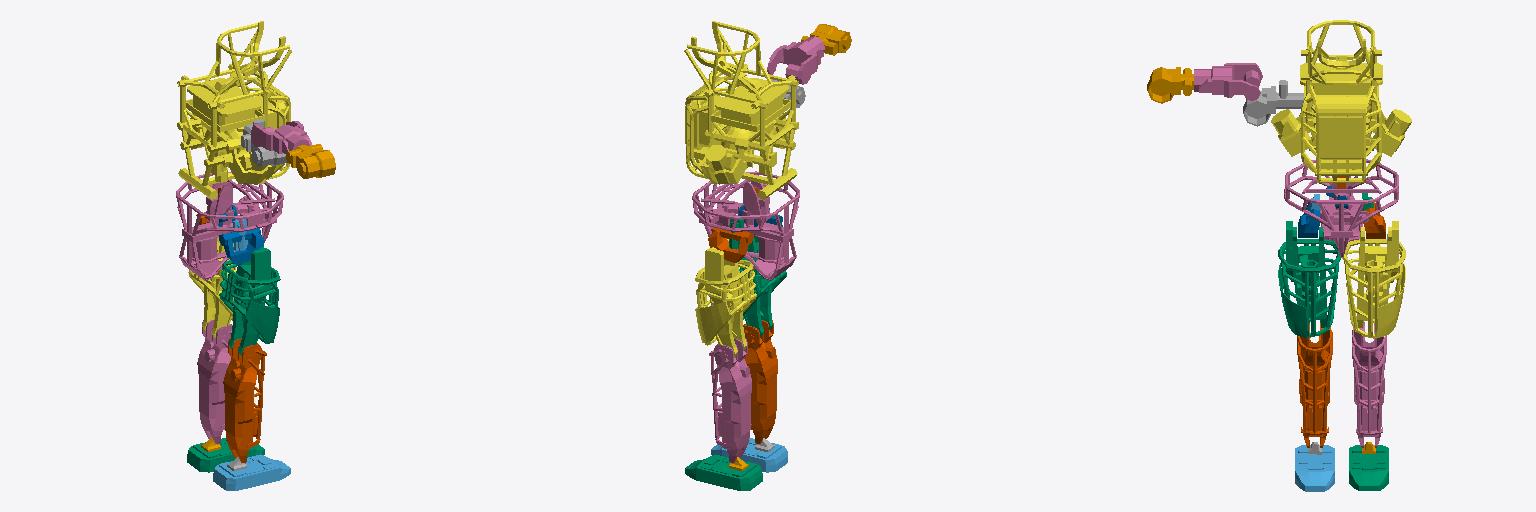
--- Facts derived from the render (not from the file) ---
The picture shows the robot from 3 angles, left to right: view 1: azimuth 30°, elevation 25°; view 2: azimuth 150°, elevation 25°; view 3: azimuth 270°, elevation 25°; orthographic projection.
Model drc_skeleton with 29 links and 28 joints (9 revolute, 19 fixed), rooted at pelvis, posed every joint at zero.
Links seen in each view (by area): view 1: utorso, pelvis, r_uleg, r_lleg, l_lleg, r_foot, l_uleg, r_scap, r_uarm, l_foot, r_lglut, r_clav; view 2: utorso, pelvis, l_uleg, l_lleg, r_lleg, l_foot, r_scap, r_uleg, r_foot, l_lglut, r_uarm; view 3: utorso, l_uleg, r_uleg, pelvis, r_lleg, l_lleg, r_scap, r_foot, l_foot, r_clav, r_uarm.
Link boxes in pixels (left/top/right/bottom): utorso: left=177, top=21, right=291, bottom=199; pelvis: left=176, top=172, right=283, bottom=280; r_uleg: left=219, top=247, right=280, bottom=355; r_lleg: left=223, top=338, right=266, bottom=462; l_lleg: left=197, top=319, right=232, bottom=443; r_foot: left=213, top=454, right=290, bottom=490; l_uleg: left=188, top=237, right=236, bottom=337; r_scap: left=250, top=121, right=311, bottom=153; r_uarm: left=286, top=144, right=335, bottom=178; l_foot: left=187, top=438, right=264, bottom=472; r_lglut: left=219, top=228, right=264, bottom=264; r_clav: left=241, top=119, right=286, bottom=166; utorso: left=684, top=21, right=798, bottom=199; pelvis: left=692, top=171, right=799, bottom=280; l_uleg: left=695, top=239, right=756, bottom=356; l_lleg: left=709, top=338, right=751, bottom=462; r_lleg: left=743, top=320, right=777, bottom=443; l_foot: left=685, top=454, right=762, bottom=490; r_scap: left=767, top=36, right=824, bottom=84; r_uleg: left=739, top=236, right=786, bottom=336; r_foot: left=711, top=438, right=787, bottom=472; l_lglut: left=708, top=225, right=753, bottom=262; r_uarm: left=801, top=24, right=851, bottom=55; utorso: left=1271, top=20, right=1411, bottom=182; l_uleg: left=1342, top=221, right=1405, bottom=338; r_uleg: left=1278, top=221, right=1341, bottom=337; pelvis: left=1284, top=159, right=1398, bottom=256; r_lleg: left=1297, top=323, right=1332, bottom=447; l_lleg: left=1352, top=322, right=1386, bottom=447; r_scap: left=1194, top=63, right=1262, bottom=100; r_foot: left=1295, top=445, right=1334, bottom=491; l_foot: left=1349, top=445, right=1388, bottom=490; r_clav: left=1243, top=80, right=1303, bottom=126; r_uarm: left=1147, top=67, right=1193, bottom=103.
Bounding box of the posed robot: 0.3659 × 0.8689 × 1.63 m (x, y, z).
20 mesh visuals loaded from 29 distinct referenced files (20 OBJ); not drawn: 9 (reference not matched to a file when rendering).

The robot description file, URDF, robot "drc_skeleton":
<!-- These are Atlas torso and limb models, for full Atlas robot nn_model, please see
     xacro files containing fully assembed robots in atlas_description/robots/ -->
<robot name="drc_skeleton">
    <link name="l_clav">
        <inertial>
            <mass value="2.369" />
            <origin xyz="0.014 0.058 0.029" rpy="1.04719755 0 0" />
            <inertia ixx="0.004" ixy="0.001" ixz="0" iyy="0.006" iyz="0" izz="0.007" />
        </inertial>
        <visual>
            <origin xyz="0 0 0" rpy="0 -0 0" />
            <geometry>
                <mesh filename="meshes/l_clav.obj" scale="1 1 1" />
            </geometry>
        </visual>
        <collision>
            <origin xyz="0 0 0" rpy="0 -0 0" />
            <geometry>
                <mesh filename="meshes/l_clav.obj" scale="1 1 1" />
            </geometry>
        </collision>
    </link>
    <link name="l_farm">
        <inertial>
            <mass value="0.981" />
            <origin xyz="0 0.041 0" rpy="0 -0 0" />
            <inertia ixx="0.003" ixy="0" ixz="0" iyy="0.001" iyz="0" izz="0.003" />
        </inertial>
        <visual>
            <origin xyz="0 0 0" rpy="0 -0 0" />
            <geometry>
                <mesh filename="meshes/l_farm.obj" scale="1 1 1" />
            </geometry>
        </visual>
        <collision>
            <origin xyz="0 0 0" rpy="0 -0 0" />
            <geometry>
                <mesh filename="meshes/l_farm.obj" scale="1 1 1" />
            </geometry>
        </collision>
    </link>
    <link name="l_foot">
        <inertial>
            <mass value="1.634" />
            <origin xyz="0.027 0 -0.067" rpy="0 -0 0" />
            <inertia ixx="0.002" ixy="0" ixz="0" iyy="0.007" iyz="0" izz="0.008" />
        </inertial>
        <visual>
            <origin xyz="0 0 0" rpy="0 -0 0" />
            <geometry>
                <mesh filename="meshes/l_foot.obj" scale="1 1 1" />
            </geometry>
        </visual>
        <collision>
            <origin xyz="0 0 0" rpy="0 -0 0" />
            <geometry>
                <mesh filename="meshes/l_foot.obj" scale="1 1 1" />
            </geometry>
        </collision>
    </link>
    <link name="l_hand">
        <inertial>
            <mass value="2.263" />
            <origin xyz="0 0.093 0" rpy="0 -0 0" />
            <inertia ixx="0.01" ixy="0" ixz="0" iyy="0.002" iyz="0" izz="0.01" />
        </inertial>
        <visual>
            <origin xyz="0 0 0" rpy="0 -0 0" />
            <geometry>
                <mesh filename="meshes/l_hand.obj" scale="1 1 1" />
            </geometry>
        </visual>
        <collision>
            <origin xyz="0 0 0" rpy="0 -0 0" />
            <geometry>
                <mesh filename="meshes/l_hand.obj" scale="1 1 1" />
            </geometry>
        </collision>
    </link>
    <link name="l_larm">
        <inertial>
            <mass value="2.148" />
            <origin xyz="-0.003 0.099 -0.014" rpy="0 -0 0" />
            <inertia ixx="0.005" ixy="0" ixz="0" iyy="0.003" iyz="0" izz="0.006" />
        </inertial>
        <visual>
            <origin xyz="0 0 0" rpy="0 -0 0" />
            <geometry>
                <mesh filename="meshes/l_larm.obj" scale="1 1 1" />
            </geometry>
        </visual>
        <collision>
            <origin xyz="0 0 0" rpy="0 -0 0" />
            <geometry>
                <mesh filename="meshes/l_larm.obj" scale="1 1 1" />
            </geometry>
        </collision>
    </link>
    <link name="l_lglut">
        <inertial>
            <mass value="0.69" />
            <origin xyz="0.0133341 0.0170484 -0.0312052" rpy="0 -0 0" />
            <inertia ixx="0.000691326" ixy="-2.24344e-05" ixz="2.50508e-06" iyy="0.00126856" iyz="0.000137862" izz="0.00106487" />
        </inertial>
        <visual>
            <origin xyz="0 0 0" rpy="0 -0 0" />
            <geometry>
                <mesh filename="meshes/l_lglut.obj" scale="1 1 1" />
            </geometry>
        </visual>
        <collision>
            <origin xyz="0 0 0" rpy="0 -0 0" />
            <geometry>
                <mesh filename="meshes/l_lglut.obj" scale="1 1 1" />
            </geometry>
        </collision>
    </link>
    <link name="l_lleg">
        <inertial>
            <mass value="4.367" />
            <origin xyz="0.001 0 -0.187" rpy="0 -0 0" />
            <inertia ixx="0.077" ixy="0" ixz="-0.003" iyy="0.076" iyz="0" izz="0.01" />
        </inertial>
        <visual>
            <origin xyz="0 0 0" rpy="0 -0 0" />
            <geometry>
                <mesh filename="meshes/l_lleg.obj" scale="1 1 1" />
            </geometry>
        </visual>
        <collision>
            <origin xyz="0 0 0" rpy="0 -0 0" />
            <geometry>
                <mesh filename="meshes/l_lleg.obj" scale="1 1 1" />
            </geometry>
        </collision>
    </link>
    <link name="l_scap">
        <inertial>
            <mass value="2.707" />
            <origin xyz="-0.002 0.108 0" rpy="0 -0 0" />
            <inertia ixx="0.01" ixy="0" ixz="0" iyy="0.005" iyz="0" izz="0.013" />
        </inertial>
        <visual>
            <origin xyz="0 0 0" rpy="0 -0 0" />
            <geometry>
                <mesh filename="meshes/l_scap.obj" scale="1 1 1" />
            </geometry>
        </visual>
        <collision>
            <origin xyz="0 0 0" rpy="0 -0 0" />
            <geometry>
                <mesh filename="meshes/l_scap.obj" scale="1 1 1" />
            </geometry>
        </collision>
    </link>
    <link name="l_talus">
        <inertial>
            <mass value="0.1" />
            <origin xyz="0 0 0" rpy="0 -0 0" />
            <inertia ixx="1.01674e-05" ixy="0" ixz="0" iyy="8.42775e-06" iyz="0" izz="1.30101e-05" />
        </inertial>
        <visual>
            <origin xyz="0 0 0" rpy="0 -0 0" />
            <geometry>
                <mesh filename="meshes/l_talus.obj" scale="1 1 1" />
            </geometry>
        </visual>
        <collision>
            <origin xyz="0 0 0" rpy="0 -0 0" />
            <geometry>
                <mesh filename="meshes/l_talus.obj" scale="1 1 1" />
            </geometry>
        </collision>
    </link>
    <link name="l_uarm">
        <inertial>
            <mass value="1.881" />
            <origin xyz="0.007 0.114 0.008" rpy="0 -0 0" />
            <inertia ixx="0.002" ixy="0" ixz="0" iyy="0.003" iyz="0" izz="0.003" />
        </inertial>
        <visual>
            <origin xyz="0 0 0" rpy="0 -0 0" />
            <geometry>
                <mesh filename="meshes/l_uarm.obj" scale="1 1 1" />
            </geometry>
        </visual>
        <collision>
            <origin xyz="0 0 0" rpy="0 -0 0" />
            <geometry>
                <mesh filename="meshes/l_uarm.obj" scale="1 1 1" />
            </geometry>
        </collision>
    </link>
    <link name="l_uglut">
        <inertial>
            <mass value="0.5166" />
            <origin xyz="0.00529262 -0.00344732 0.00313046" rpy="0 -0 0" />
            <inertia ixx="0.00074276" ixy="-3.79607e-08" ixz="-2.79549e-05" iyy="0.000688179" iyz="-3.2735e-08" izz="0.00041242" />
        </inertial>
        <visual>
            <origin xyz="0 0 0" rpy="0 -0 0" />
            <geometry>
                <mesh filename="meshes/l_uglut.obj" scale="1 1 1" />
            </geometry>
        </visual>
        <collision>
            <origin xyz="0 0 0" rpy="0 -0 0" />
            <geometry>
                <mesh filename="meshes/l_uglut.obj" scale="1 1 1" />
            </geometry>
        </collision>
    </link>
    <link name="l_uleg">
        <inertial>
            <mass value="7.34" />
            <origin xyz="0 0 -0.21" rpy="0 -0 0" />
            <inertia ixx="0.09" ixy="0" ixz="0" iyy="0.09" iyz="0" izz="0.02" />
        </inertial>
        <visual>
            <origin xyz="0 0 0" rpy="0 -0 0" />
            <geometry>
                <mesh filename="meshes/l_uleg.obj" scale="1 1 1" />
            </geometry>
        </visual>
        <collision>
            <origin xyz="0 0 0" rpy="0 -0 0" />
            <geometry>
                <mesh filename="meshes/l_uleg.obj" scale="1 1 1" />
            </geometry>
        </collision>
    </link>
    <link name="ltorso">
        <inertial>
            <mass value="1.92" />
            <origin xyz="-0.0112984 -3.15366e-06 0.0746835" rpy="0 -0 0" />
            <inertia ixx="0.0039092" ixy="-5.04491e-08" ixz="-0.000342157" iyy="0.00341694" iyz="4.87119e-07" izz="0.00174492" />
        </inertial>
        <visual>
            <origin xyz="0 0 0" rpy="0 -0 0" />
            <geometry>
                <mesh filename="meshes/ltorso.obj" scale="1 1 1" />
            </geometry>
        </visual>
        <collision>
            <origin xyz="0 0 0" rpy="0 -0 0" />
            <geometry>
                <mesh filename="meshes/ltorso.obj" scale="1 1 1" />
            </geometry>
        </collision>
    </link>
    <link name="mtorso">
        <inertial>
            <mass value="0.55" />
            <origin xyz="-0.00816266 -0.0131245 0.0305974" rpy="0 -0 0" />
            <inertia ixx="0.000454181" ixy="-6.10764e-05" ixz="3.94009e-05" iyy="0.000483282" iyz="5.27463e-05" izz="0.000444215" />
        </inertial>
        <visual>
            <origin xyz="0 0 0" rpy="0 -0 0" />
            <geometry>
                <mesh filename="meshes/mtorso.obj" scale="1 1 1" />
            </geometry>
        </visual>
        <collision>
            <origin xyz="0 0 0" rpy="0 -0 0" />
            <geometry>
                <mesh filename="meshes/mtorso.obj" scale="1 1 1" />
            </geometry>
        </collision>
    </link>
    <link name="pelvis">
        <inertial>
            <mass value="14.2529" />
            <origin xyz="0.0111 0 0.0271" rpy="0 -0 0" />
            <inertia ixx="0.1244" ixy="0.0008" ixz="-0.0007" iyy="0.0958" iyz="-0.0005" izz="0.1167" />
        </inertial>
        <visual>
            <origin xyz="0 0 0" rpy="0 -0 0" />
            <geometry>
                <mesh filename="meshes/pelvis.obj" scale="1 1 1" />
            </geometry>
        </visual>
        <collision>
            <origin xyz="0 0 0" rpy="0 -0 0" />
            <geometry>
                <mesh filename="meshes/pelvis.obj" scale="1 1 1" />
            </geometry>
        </collision>
    </link>
	<link name="r_clav">
        <inertial>
            <mass value="2.369" />
            <origin xyz="0.014 -0.058 0.029" rpy="-1.04719755 0 0" />
            <inertia ixx="0.004" ixy="-0.001" ixz="0" iyy="0.006" iyz="0" izz="0.007" />
        </inertial>
        <visual>
            <origin xyz="0 0 0" rpy="0 -0 0" />
            <geometry>
                <mesh filename="meshes/r_clav.obj" scale="1 1 1" />
            </geometry>
        </visual>
        <collision>
            <origin xyz="0 0 0" rpy="0 -0 0" />
            <geometry>
                <mesh filename="meshes/r_clav.obj" scale="1 1 1" />
            </geometry>
        </collision>
    </link>
    <link name="r_farm">
        <inertial>
            <mass value="0.981" />
            <origin xyz="0 -0.041 0" rpy="0 -0 0" />
            <inertia ixx="0.003" ixy="0" ixz="0" iyy="0.001" iyz="0" izz="0.003" />
        </inertial>
        <visual>
            <origin xyz="0 0 0" rpy="0 -0 0" />
            <geometry>
                <mesh filename="meshes/r_farm.obj" scale="1 1 1" />
            </geometry>
        </visual>
        <collision>
            <origin xyz="0 0 0" rpy="0 -0 0" />
            <geometry>
                <mesh filename="meshes/r_farm.obj" scale="1 1 1" />
            </geometry>
        </collision>
    </link>
    <link name="r_foot">
        <inertial>
            <mass value="1.634" />
            <origin xyz="0.027 0 -0.067" rpy="0 -0 0" />
            <inertia ixx="0.002" ixy="0" ixz="0" iyy="0.007" iyz="0" izz="0.008" />
        </inertial>
        <visual>
            <origin xyz="0 0 0" rpy="0 -0 0" />
            <geometry>
                <mesh filename="meshes/r_foot.obj" scale="1 1 1" />
            </geometry>
        </visual>
        <collision>
            <origin xyz="0 0 0" rpy="0 -0 0" />
            <geometry>
                <mesh filename="meshes/r_foot.obj" scale="1 1 1" />
            </geometry>
        </collision>
    </link>
    <link name="r_hand">
        <inertial>
            <mass value="2.263" />
            <origin xyz="0 -0.093 0" rpy="0 -0 0" />
            <inertia ixx="0.01" ixy="0" ixz="-0" iyy="0.002" iyz="0" izz="0.01" />
        </inertial>
        <visual>
            <origin xyz="0 0 0" rpy="0 -0 0" />
            <geometry>
                <mesh filename="meshes/r_hand.obj" scale="1 1 1" />
            </geometry>
        </visual>
        <collision>
            <origin xyz="0 0 0" rpy="0 -0 0" />
            <geometry>
                <mesh filename="meshes/r_hand.obj" scale="1 1 1" />
            </geometry>
        </collision>
    </link>
    <link name="r_larm">
        <inertial>
            <mass value="2.148" />
            <origin xyz="-0.003 -0.099 -0.014" rpy="0 -0 0" />
            <inertia ixx="0.005" ixy="0" ixz="0" iyy="0.003" iyz="0" izz="0.006" />
        </inertial>
        <visual>
            <origin xyz="0 0 0" rpy="0 -0 0" />
            <geometry>
                <mesh filename="meshes/r_larm.obj" scale="1 1 1" />
            </geometry>
        </visual>
        <collision>
            <origin xyz="0 0 0" rpy="0 -0 0" />
            <geometry>
                <mesh filename="meshes/r_larm.obj" scale="1 1 1" />
            </geometry>
        </collision>
    </link>
    <link name="r_lglut">
        <inertial>
            <mass value="0.69" />
            <origin xyz="0.0133341 -0.0170484 -0.0312052" rpy="0 -0 0" />
            <inertia ixx="0.000691326" ixy="2.24344e-05" ixz="2.50508e-06" iyy="0.00126856" iyz="-0.000137862" izz="0.00106487" />
        </inertial>
        <visual>
            <origin xyz="0 0 0" rpy="0 -0 0" />
            <geometry>
                <mesh filename="meshes/r_lglut.obj" scale="1 1 1" />
            </geometry>
        </visual>
        <collision>
            <origin xyz="0 0 0" rpy="0 -0 0" />
            <geometry>
                <mesh filename="meshes/r_lglut.obj" scale="1 1 1" />
            </geometry>
        </collision>
    </link>
    <link name="r_lleg">
        <inertial>
            <mass value="4.367" />
            <origin xyz="0.001 0 -0.187" rpy="0 -0 0" />
            <inertia ixx="0.077" ixy="-0" ixz="-0.003" iyy="0.076" iyz="-0" izz="0.01" />
        </inertial>
        <visual>
            <origin xyz="0 0 0" rpy="0 -0 0" />
            <geometry>
                <mesh filename="meshes/r_lleg.obj" scale="1 1 1" />
            </geometry>
        </visual>
        <collision>
            <origin xyz="0 0 0" rpy="0 -0 0" />
            <geometry>
                <mesh filename="meshes/r_lleg.obj" scale="1 1 1" />
            </geometry>
        </collision>
    </link>
    <link name="r_scap">
        <inertial>
            <mass value="2.707" />
            <origin xyz="-0.002 -0.108 0" rpy="0 -0 0" />
            <inertia ixx="0.01" ixy="0" ixz="0" iyy="0.005" iyz="0" izz="0.013" />
        </inertial>
        <visual>
            <origin xyz="0 0 0" rpy="0 -0 0" />
            <geometry>
                <mesh filename="meshes/r_scap.obj" scale="1 1 1" />
            </geometry>
        </visual>
        <collision>
            <origin xyz="0 0 0" rpy="0 -0 0" />
            <geometry>
                <mesh filename="meshes/r_scap.obj" scale="1 1 1" />
            </geometry>
        </collision>
    </link>
    <link name="r_talus">
        <inertial>
            <mass value="0.1" />
            <origin xyz="0 0 0" rpy="0 -0 0" />
            <inertia ixx="1.01674e-05" ixy="0" ixz="0" iyy="8.42775e-06" iyz="0" izz="1.30101e-05" />
        </inertial>
        <visual>
            <origin xyz="0 0 0" rpy="0 -0 0" />
            <geometry>
                <mesh filename="meshes/r_talus.obj" scale="1 1 1" />
            </geometry>
        </visual>
        <collision>
            <origin xyz="0 0 0" rpy="0 -0 0" />
            <geometry>
                <mesh filename="meshes/r_talus.obj" scale="1 1 1" />
            </geometry>
        </collision>
    </link>
    <link name="r_uarm">
        <inertial>
            <mass value="1.881" />
            <origin xyz="0.007 -0.114 0.008" rpy="0 -0 0" />
            <inertia ixx="0.002" ixy="0" ixz="0" iyy="0.003" iyz="0" izz="0.003" />
        </inertial>
        <visual>
            <origin xyz="0 0 0" rpy="0 -0 0" />
            <geometry>
                <mesh filename="meshes/r_uarm.obj" scale="1 1 1" />
            </geometry>
        </visual>
        <collision>
            <origin xyz="0 0 0" rpy="0 -0 0" />
            <geometry>
                <mesh filename="meshes/r_uarm.obj" scale="1 1 1" />
            </geometry>
        </collision>
    </link>
    <link name="r_uglut">
        <inertial>
            <mass value="0.5166" />
            <origin xyz="0.00529262 0.00344732 0.00313046" rpy="0 -0 0" />
            <inertia ixx="0.00074276" ixy="3.79607e-08" ixz="-2.79549e-05" iyy="0.000688179" iyz="3.2735e-08" izz="0.00041242" />
        </inertial>
        <visual>
            <origin xyz="0 0 0" rpy="0 -0 0" />
            <geometry>
                <mesh filename="meshes/r_uglut.obj" scale="1 1 1" />
            </geometry>
        </visual>
        <collision>
            <origin xyz="0 0 0" rpy="0 -0 0" />
            <geometry>
                <mesh filename="meshes/r_uglut.obj" scale="1 1 1" />
            </geometry>
        </collision>
    </link>
    <link name="r_uleg">
        <inertial>
            <mass value="7.34" />
            <origin xyz="0 0 -0.21" rpy="0 -0 0" />
            <inertia ixx="0.09" ixy="0" ixz="0" iyy="0.09" iyz="0" izz="0.02" />
        </inertial>
        <visual>
            <origin xyz="0 0 0" rpy="0 -0 0" />
            <geometry>
                <mesh filename="meshes/r_uleg.obj" scale="1 1 1" />
            </geometry>
        </visual>
        <collision>
            <origin xyz="0 0 0" rpy="0 -0 0" />
            <geometry>
                <mesh filename="meshes/r_uleg.obj" scale="1 1 1" />
            </geometry>
        </collision>
    </link>
    <link name="utorso">
        <inertial>
            <mass value="18.484" />
            <origin xyz="0.02 -0.001 0.211" rpy="0 -0 0" />
            <!-- original inertia violates triangle rule
            <inertia ixx="0.395" ixy="0" ixz="0.083" iyy="1.089" iyz="-0.003" izz="0.327" />
            -->
            <inertia ixx="0.395" ixy="0" ixz="0.083" iyy="1.089" iyz="-0.003" izz="0.827" />
        </inertial>
        <visual>
            <origin xyz="0 0 0" rpy="0 -0 0" />
            <geometry>
                <mesh filename="meshes/utorso.obj" scale="1 1 1" />
            </geometry>
        </visual>
        <collision>
            <origin xyz="0 0 0" rpy="0 -0 0" />
            <geometry>
                <mesh filename="meshes/utorso.obj" scale="1 1 1" />
            </geometry>
        </collision>
    </link>


	<!--	Active Joints -->
    <joint name="back_lbz" type="revolute">
        <origin xyz="-0.0125 0 0" rpy="0 -0 0" />
        <axis xyz="0 0 1" />
        <parent link="pelvis" />
        <child link="ltorso" />
        <dynamics damping="0.1" friction="0" />
        <limit effort="124.016" velocity="12" lower="-0.610865" upper="0.610865" />
        <safety_controller k_position="100" k_velocity="100" soft_lower_limit="-10.6109" soft_upper_limit="10.6109" />
    </joint>
	<joint name="back_mby" type="revolute">
        <origin xyz="0 0 0.09" rpy="0 -0 0" />
        <axis xyz="0 1 0" />
        <parent link="ltorso" />
        <child link="mtorso" />
        <dynamics damping="0.1" friction="0" />
        <limit effort="206.843" velocity="12" lower="-1.2" upper="1.28" />
        <safety_controller k_position="100" k_velocity="100" soft_lower_limit="-11.2" soft_upper_limit="11.28" />
    </joint>
    <joint name="back_ubx" type="revolute">
        <origin xyz="0 0 0.05" rpy="0 -0 0" />
        <axis xyz="1 0 0" />
        <parent link="mtorso" />
        <child link="utorso" />
        <dynamics damping="0.1" friction="0" />
        <limit effort="94.91" velocity="12" lower="-0.790809" upper="0.790809" />
        <safety_controller k_position="100" k_velocity="100" soft_lower_limit="-10.7908" soft_upper_limit="10.7908" />
    </joint>
    <joint name="l_arm_usy" type="revolute">
        <origin xyz="0.024 0.221 0.289" rpy="0 -0 0" />
        <axis xyz="0 0.5 0.866025" />
        <parent link="utorso" />
        <child link="l_clav" />
        <dynamics damping="0.1" friction="0" />
        <limit effort="212" velocity="12" lower="-1.9635" upper="1.9635" />
        <safety_controller k_position="100" k_velocity="100" soft_lower_limit="-11.9635" soft_upper_limit="11.9635" />
    </joint>
    <joint name="l_arm_shx" type="revolute">
        <origin xyz="0 0.075 0.036" rpy="0 -0 0" />
        <axis xyz="1 0 0" />
        <parent link="l_clav" />
        <child link="l_scap" />
        <dynamics damping="0.1" friction="0" />
        <limit effort="170" velocity="12" lower="-1.39626" upper="1.74533" />
        <safety_controller k_position="100" k_velocity="100" soft_lower_limit="-11.3963" soft_upper_limit="11.7453" />
    </joint>
    <joint name="l_arm_ely" type="revolute">
        <origin xyz="0 0.185 0" rpy="0 -0 0" />
        <axis xyz="0 1 0" />
        <parent link="l_scap" />
        <child link="l_uarm" />
        <dynamics damping="0.1" friction="0" />
        <limit effort="114" velocity="12" lower="0" upper="3.14159" />
        <safety_controller k_position="100" k_velocity="100" soft_lower_limit="-10" soft_upper_limit="13.1416" />
    </joint>
    <joint name="l_arm_elx" type="revolute">
        <origin xyz="0 0.121 0.013" rpy="0 -0 0" />
        <axis xyz="1 0 0" />
        <parent link="l_uarm" />
        <child link="l_larm" />
        <dynamics damping="0.1" friction="0" />
        <limit effort="114" velocity="12" lower="0" upper="2.35619" />
        <safety_controller k_position="100" k_velocity="100" soft_lower_limit="-10" soft_upper_limit="12.3562" />
    </joint>
    <joint name="l_arm_uwy" type="revolute">
        <origin xyz="0 0.188 -0.013" rpy="0 -0 0" />
        <axis xyz="0 1 0" />
        <parent link="l_larm" />
        <child link="l_farm" />
        <dynamics damping="0.1" friction="0" />
        <limit effort="114" velocity="12" lower="-1.571" upper="1.571" />
        <safety_controller k_position="100" k_velocity="100" soft_lower_limit="-11.571" soft_upper_limit="11.571" />
    </joint>
	<joint name="l_arm_mwx" type="revolute">
        <origin xyz="0 0.058 0" rpy="0 -0 0" />
        <axis xyz="1 0 0" />
        <parent link="l_farm" />
        <child link="l_hand" />
        <dynamics damping="0.1" friction="0" />
        <limit effort="60" velocity="12" lower="-0.436" upper="1.571" />
        <safety_controller k_position="100" k_velocity="100" soft_lower_limit="-10.436" soft_upper_limit="11.571" />
    </joint>














    <joint name="l_leg_lax" type="fixed">
        <origin xyz="0 0 0" rpy="0 -0 0" />
        <axis xyz="1 0 0" />
        <parent link="l_talus" />
        <child link="l_foot" />
        <dynamics damping="0.1" friction="0" />
        <limit effort="90" velocity="12" lower="-0.436" upper="0.436" />
        <safety_controller k_position="100" k_velocity="100" soft_lower_limit="-10.436" soft_upper_limit="10.436" />
    </joint>
    <joint name="l_leg_lhy" type="fixed">
        <origin xyz="0.05 0 -0.05" rpy="0 -0 0" />
        <axis xyz="0 1 0" />
        <parent link="l_lglut" />
        <child link="l_uleg" />
        <dynamics damping="0.1" friction="0" />
        <limit effort="260" velocity="12" lower="-1.75" upper="0.524" />
        <safety_controller k_position="100" k_velocity="100" soft_lower_limit="-11.75" soft_upper_limit="10.524" />
    </joint>
    <joint name="l_leg_mhx" type="fixed">
        <origin xyz="0 0 0" rpy="0 -0 0" />
        <axis xyz="1 0 0" />
        <parent link="l_uglut" />
        <child link="l_lglut" />
        <dynamics damping="0.1" friction="0" />
        <limit effort="180" velocity="12" lower="-0.47" upper="0.495" />
        <safety_controller k_position="100" k_velocity="100" soft_lower_limit="-10.47" soft_upper_limit="10.495" />
    </joint>
    <joint name="l_leg_uay" type="fixed">
        <origin xyz="0 0 -0.422" rpy="0 -0 0" />
        <axis xyz="0 1 0" />
        <parent link="l_lleg" />
        <child link="l_talus" />
        <dynamics damping="0.1" friction="0" />
        <limit effort="220" velocity="12" lower="-0.698" upper="0.698" />
        <safety_controller k_position="100" k_velocity="100" soft_lower_limit="-10.698" soft_upper_limit="10.698" />
    </joint>
    <joint name="l_leg_uhz" type="fixed">
        <origin xyz="0 0.089 0" rpy="0 -0 0" />
        <axis xyz="0 0 1" />
        <parent link="pelvis" />
        <child link="l_uglut" />
        <dynamics damping="0.1" friction="0" />
        <limit effort="110" velocity="12" lower="-0.32" upper="1.14" />
        <safety_controller k_position="100" k_velocity="100" soft_lower_limit="-10.32" soft_upper_limit="11.14" />
    </joint>
    <joint name="l_leg_kny" type="fixed">
        <origin xyz="-0.05 0 -0.374" rpy="0 -0 0" />
        <axis xyz="0 1 0" />
        <parent link="l_uleg" />
        <child link="l_lleg" />
        <dynamics damping="0.1" friction="0" />
        <limit effort="220" velocity="12" lower="0" upper="2.45" />
        <safety_controller k_position="100" k_velocity="100" soft_lower_limit="-10" soft_upper_limit="12.45" />
    </joint>
    <joint name="neck_ay" type="fixed">
        <!-- per slides on sensor head kinematics 2012-12-14 -->
        <origin xyz="0.16555 0 0.50823" rpy="0 -0 0" />
        <axis xyz="0 1 0" />
        <parent link="utorso" />
        <child link="head" />
        <dynamics damping="0.1" friction="0" />
        <!-- per slides on sensor head kinematics 2012-12-14 -->
        <limit effort="5" lower="-0.610865238" upper="1.13446401" velocity="12"/>
        <safety_controller k_position="100" k_velocity="100" soft_lower_limit="-10.610865238" soft_upper_limit="11.13446401"/>
    </joint>
    <joint name="r_arm_elx" type="fixed">
        <origin xyz="0 -0.121 0.013" rpy="0 -0 0" />
        <axis xyz="1 0 0" />
        <parent link="r_uarm" />
        <child link="r_larm" />
        <dynamics damping="0.1" friction="0" />
        <limit effort="114" velocity="12" lower="-2.35619" upper="0" />
        <safety_controller k_position="100" k_velocity="100" soft_lower_limit="-12.3562" soft_upper_limit="10" />
    </joint>
    <joint name="r_arm_ely" type="fixed">
        <origin xyz="0 -0.185 0" rpy="0 -0 0" />
        <axis xyz="0 1 0" />
        <parent link="r_scap" />
        <child link="r_uarm" />
        <dynamics damping="0.1" friction="0" />
        <limit effort="114" velocity="12" lower="0" upper="3.14159" />
        <safety_controller k_position="100" k_velocity="100" soft_lower_limit="-10" soft_upper_limit="13.1416" />
    </joint>
    <joint name="r_arm_shx" type="fixed">
        <origin xyz="0 -0.075 0.036" rpy="0 -0 0" />
        <axis xyz="1 0 0" />
        <parent link="r_clav" />
        <child link="r_scap" />
        <dynamics damping="0.1" friction="0" />
        <limit effort="170" velocity="12" lower="-1.74533" upper="1.39626" />
        <safety_controller k_position="100" k_velocity="100" soft_lower_limit="-11.7453" soft_upper_limit="11.3963" />
    </joint>
    <joint name="r_arm_usy" type="fixed">
        <origin xyz="0.024 -0.221 0.289" rpy="0 -0 0" />
        <axis xyz="0 0.5 -0.866025" />
        <parent link="utorso" />
        <child link="r_clav" />
        <dynamics damping="0.1" friction="0" />
        <limit effort="212" velocity="12" lower="-1.9635" upper="1.9635" />
        <safety_controller k_position="100" k_velocity="100" soft_lower_limit="-11.9635" soft_upper_limit="11.9635" />
    </joint>
    <joint name="r_arm_mwx" type="fixed">
        <origin xyz="0 -0.058 0" rpy="0 -0 0" />
        <axis xyz="1 0 0" />
        <parent link="r_farm" />
        <child link="r_hand" />
        <dynamics damping="0.1" friction="0" />
        <limit effort="60" velocity="12" lower="-1.571" upper="0.436" />
        <safety_controller k_position="100" k_velocity="100" soft_lower_limit="-11.571" soft_upper_limit="10.436" />
    </joint>
    <joint name="r_arm_uwy" type="fixed">
        <origin xyz="0 -0.188 -0.013" rpy="0 -0 0" />
        <axis xyz="0 1 0" />
        <parent link="r_larm" />
        <child link="r_farm" />
        <dynamics damping="0.1" friction="0" />
        <limit effort="114" velocity="12" lower="-1.571" upper="1.571" />
        <safety_controller k_position="100" k_velocity="100" soft_lower_limit="-11.571" soft_upper_limit="11.571" />
    </joint>
    <joint name="r_leg_lax" type="fixed">
        <origin xyz="0 0 0" rpy="0 -0 0" />
        <axis xyz="1 0 0" />
        <parent link="r_talus" />
        <child link="r_foot" />
        <dynamics damping="0.1" friction="0" />
        <limit effort="90" velocity="12" lower="-0.436" upper="0.436" />
        <safety_controller k_position="100" k_velocity="100" soft_lower_limit="-10.436" soft_upper_limit="10.436" />
    </joint>
    <joint name="r_leg_lhy" type="fixed">
        <origin xyz="0.05 0 -0.05" rpy="0 -0 0" />
        <axis xyz="0 1 0" />
        <parent link="r_lglut" />
        <child link="r_uleg" />
        <dynamics damping="0.1" friction="0" />
        <limit effort="260" velocity="12" lower="-1.745" upper="0.524" />
        <safety_controller k_position="100" k_velocity="100" soft_lower_limit="-11.745" soft_upper_limit="10.524" />
    </joint>
    <joint name="r_leg_mhx" type="fixed">
        <origin xyz="0 0 0" rpy="0 -0 0" />
        <axis xyz="1 0 0" />
        <parent link="r_uglut" />
        <child link="r_lglut" />
        <dynamics damping="0.1" friction="0" />
        <limit effort="180" velocity="12" lower="-0.495" upper="0.47" />
        <safety_controller k_position="100" k_velocity="100" soft_lower_limit="-10.495" soft_upper_limit="10.47" />
    </joint>
    <joint name="r_leg_uay" type="fixed">
        <origin xyz="0 0 -0.422" rpy="0 -0 0" />
        <axis xyz="0 1 0" />
        <parent link="r_lleg" />
        <child link="r_talus" />
        <dynamics damping="0.1" friction="0" />
        <limit effort="220" velocity="12" lower="-0.698" upper="0.698" />
        <safety_controller k_position="100" k_velocity="100" soft_lower_limit="-10.698" soft_upper_limit="10.698" />
    </joint>
    <joint name="r_leg_uhz" type="fixed">
        <origin xyz="0 -0.089 0" rpy="0 -0 0" />
        <axis xyz="0 0 1" />
        <parent link="pelvis" />
        <child link="r_uglut" />
        <dynamics damping="0.1" friction="0" />
        <limit effort="110" velocity="12" lower="-1.14" upper="0.32" />
        <safety_controller k_position="100" k_velocity="100" soft_lower_limit="-11.14" soft_upper_limit="10.32" />
    </joint>
    <joint name="r_leg_kny" type="fixed">
        <origin xyz="-0.05 0 -0.374" rpy="0 -0 0" />
        <axis xyz="0 1 0" />
        <parent link="r_uleg" />
        <child link="r_lleg" />
        <dynamics damping="0.1" friction="0" />
        <limit effort="220" velocity="12" lower="0" upper="2.45" />
        <safety_controller k_position="100" k_velocity="100" soft_lower_limit="-10" soft_upper_limit="12.45" />
    </joint>



<!--	Adding this in -->
	    <link name="head">
    <inertial>
      <origin rpy="0 0 0" xyz="-0.075493 3.3383E-05 0.02774"/>
      <mass value="1.41984"/>
      <inertia ixx="0.0036053766" ixy="-1.5797E-06" ixz="-0.00089293" iyy="0.002080106" iyz="-6.8415E-07" izz="0.001782985"/>
    </inertial>
    <visual>
<!--      <origin rpy="0 0 0" xyz="-0.0503 0 -0.00195"/>-->
<!--      <geometry>-->
<!--        <box size="0.1311 0.12 0.0591"/>-->
<!--      </geometry>-->

      <origin rpy="0 0 0" xyz="0 0 0"/>
      <geometry>
        <mesh filename="meshes/head.obj"/>
      </geometry>

      <material name="">
        <color rgba="0.9098 0.44314 0.031373 1"/>
      </material>
    </visual>
    <collision>
      <origin rpy="0 0 0" xyz="-0.0503 0 -0.00195"/>
      <geometry>
        <box size="0.1311 0.12 0.0591"/>
      </geometry>
    </collision>
  </link>



</robot>
